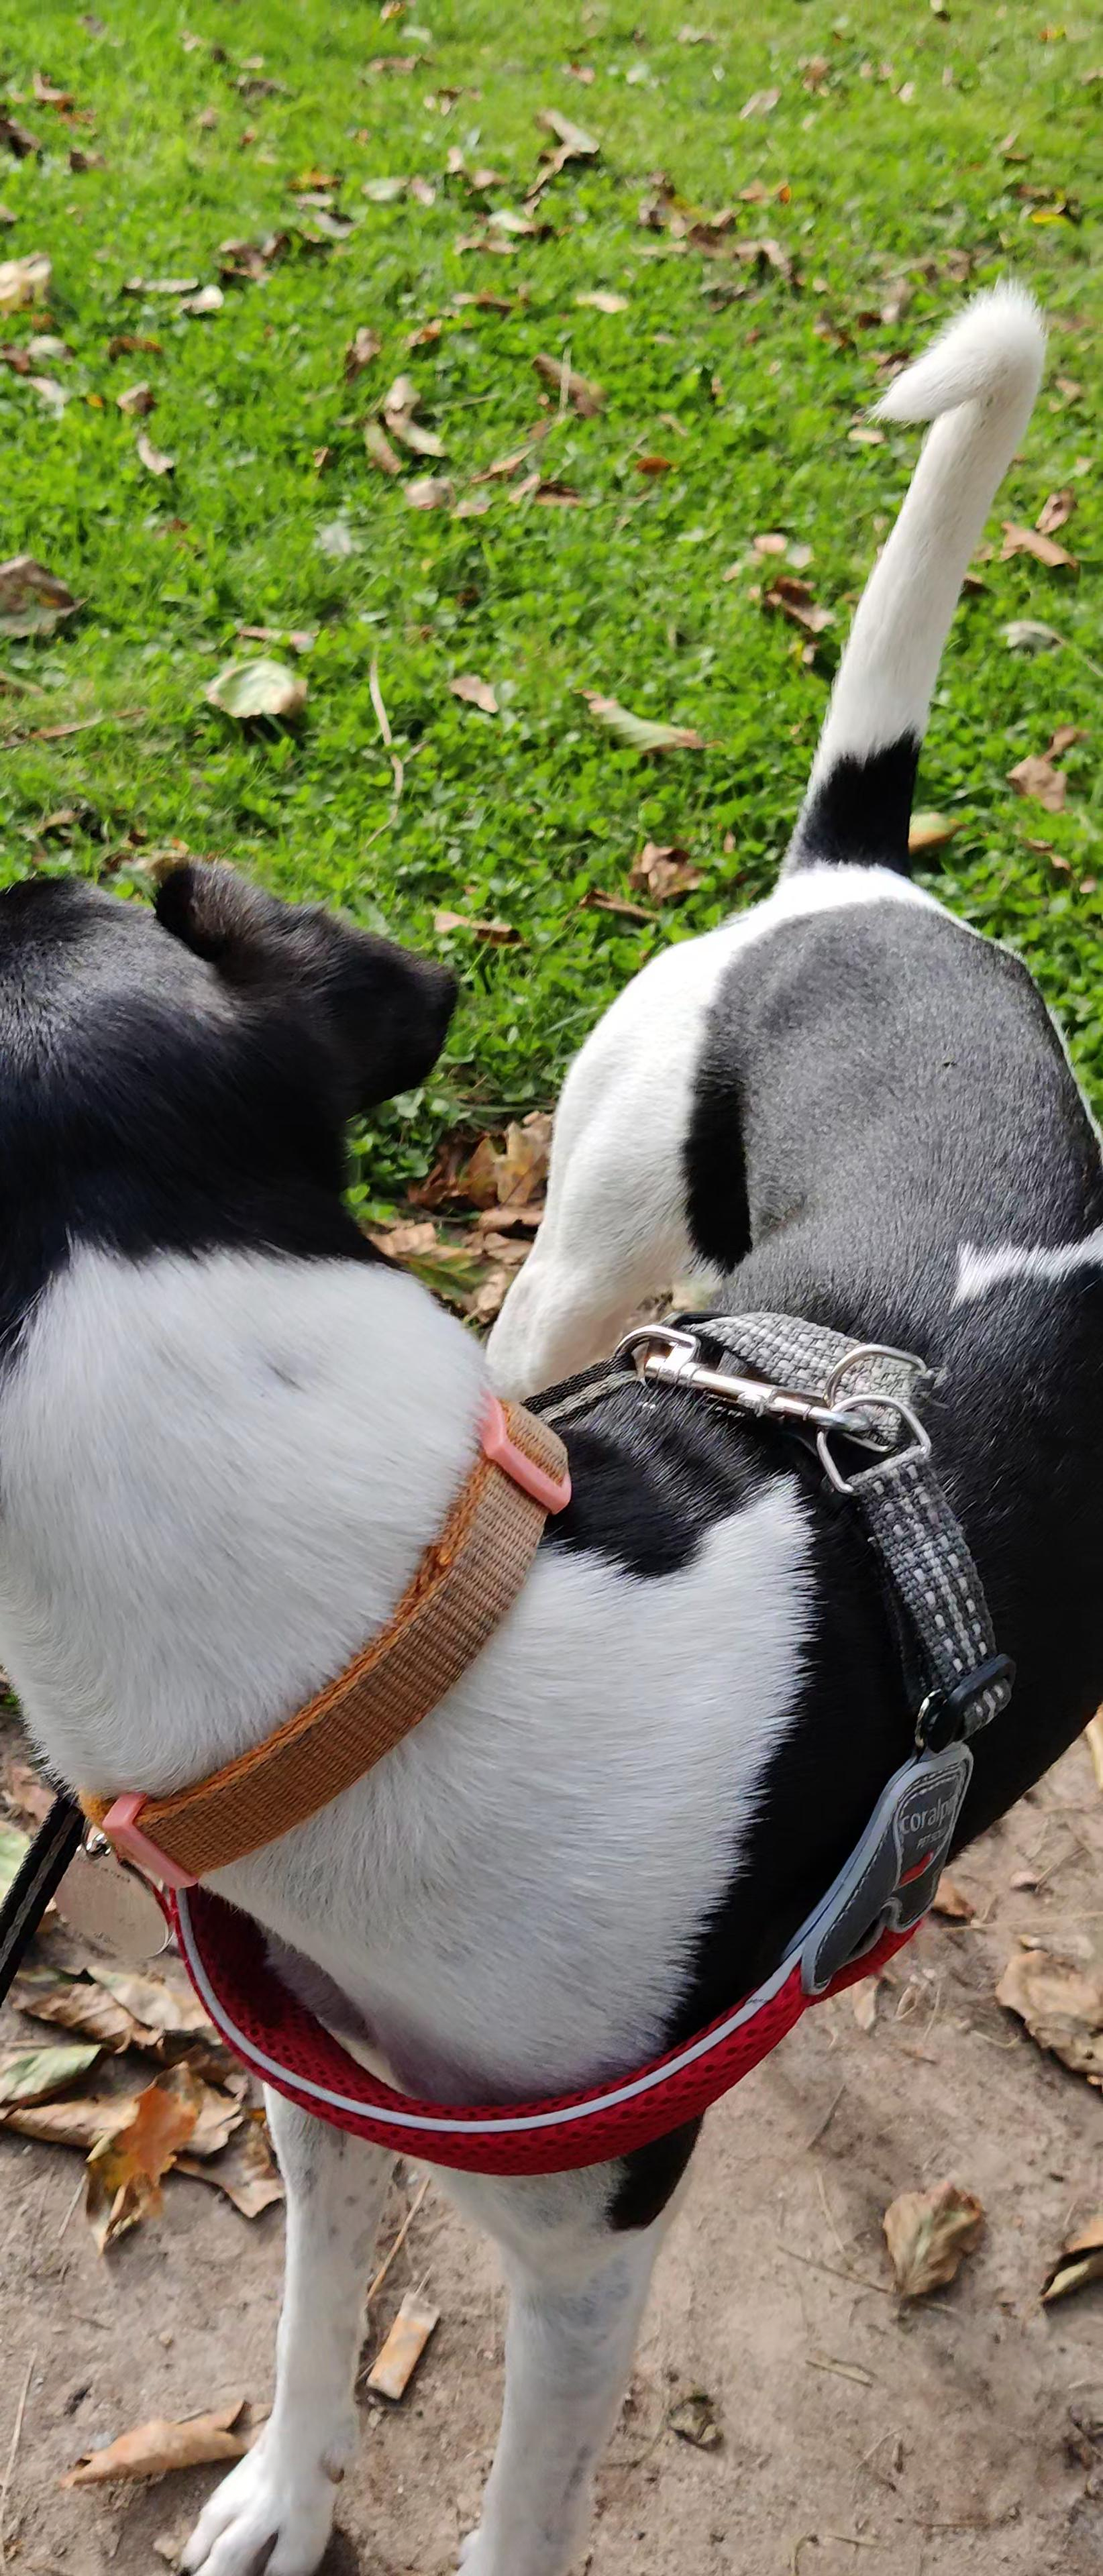Dog: (0, 256, 1103, 2576)
